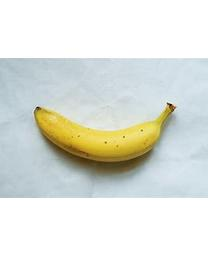banana: (32, 102, 176, 162)
